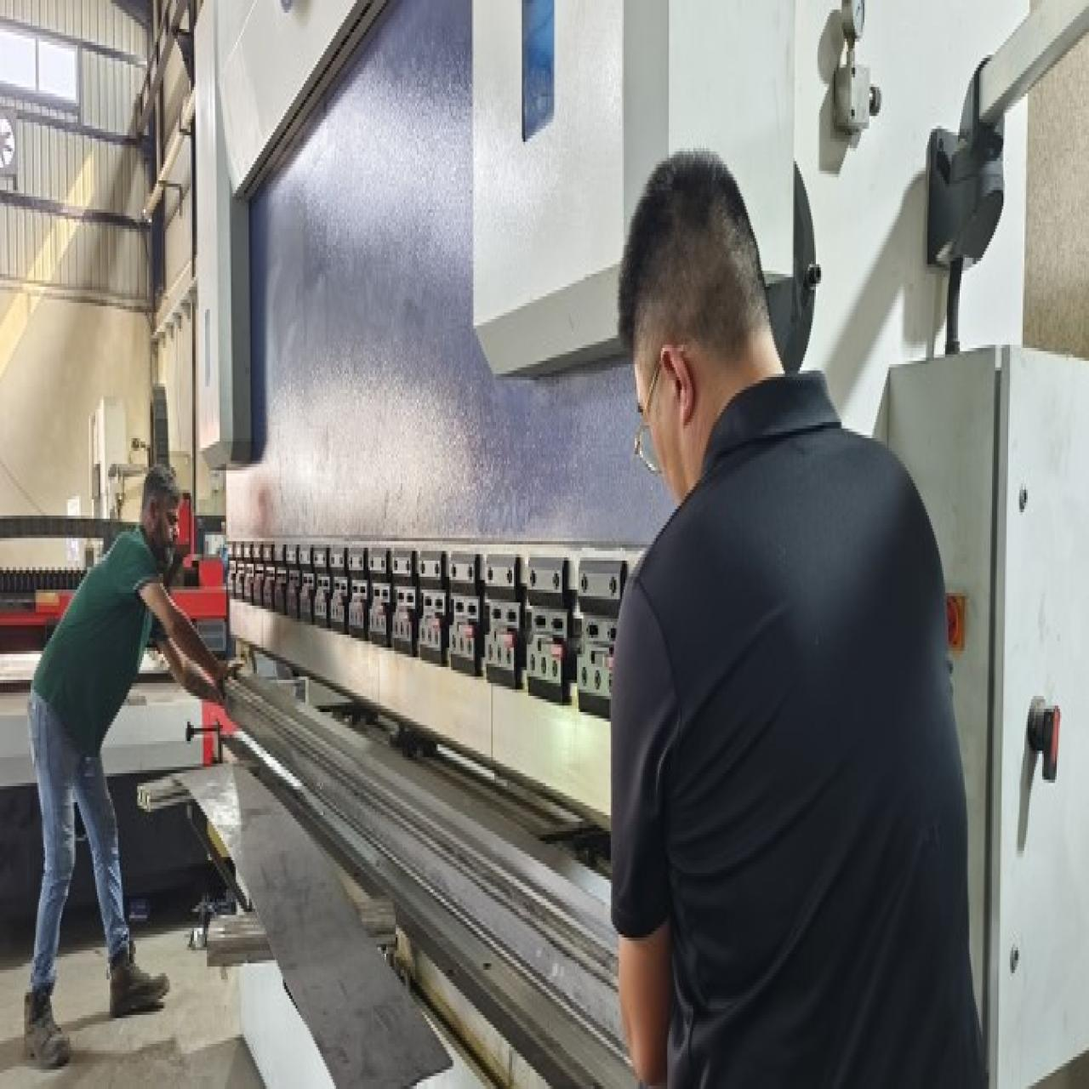NO_Safety_Vest: (638, 446, 942, 1065), (37, 528, 151, 744)
Person: (566, 129, 1009, 1089), (14, 454, 237, 1048)
